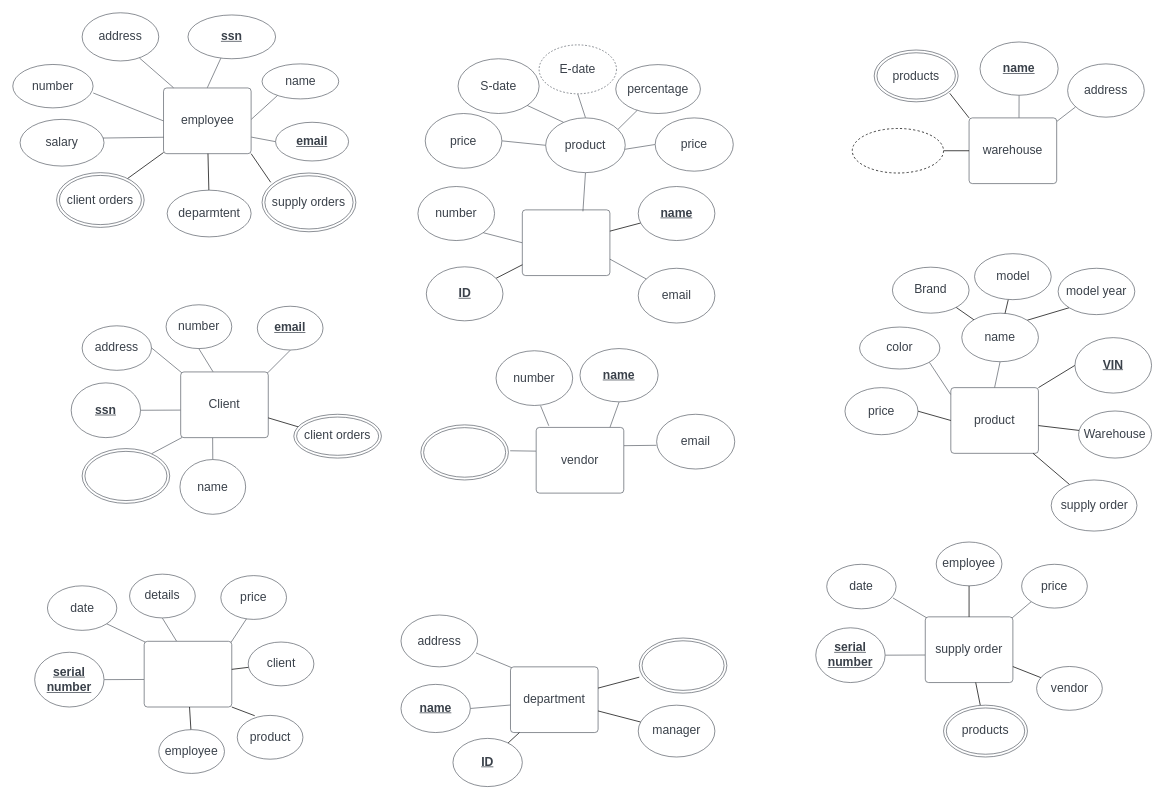
Image size: 1164x799. Some labels were removed from this diagram. Here are the shapes that lost their labels. From the top down, the centre of each, then its label:
At (x=898, y=150): "balance".
At (x=566, y=242): "Insurance company".
At (x=464, y=452): "addressess".
At (x=125, y=475): "payment method".
At (x=188, y=674): "client order".
At (x=683, y=665): "employees".
